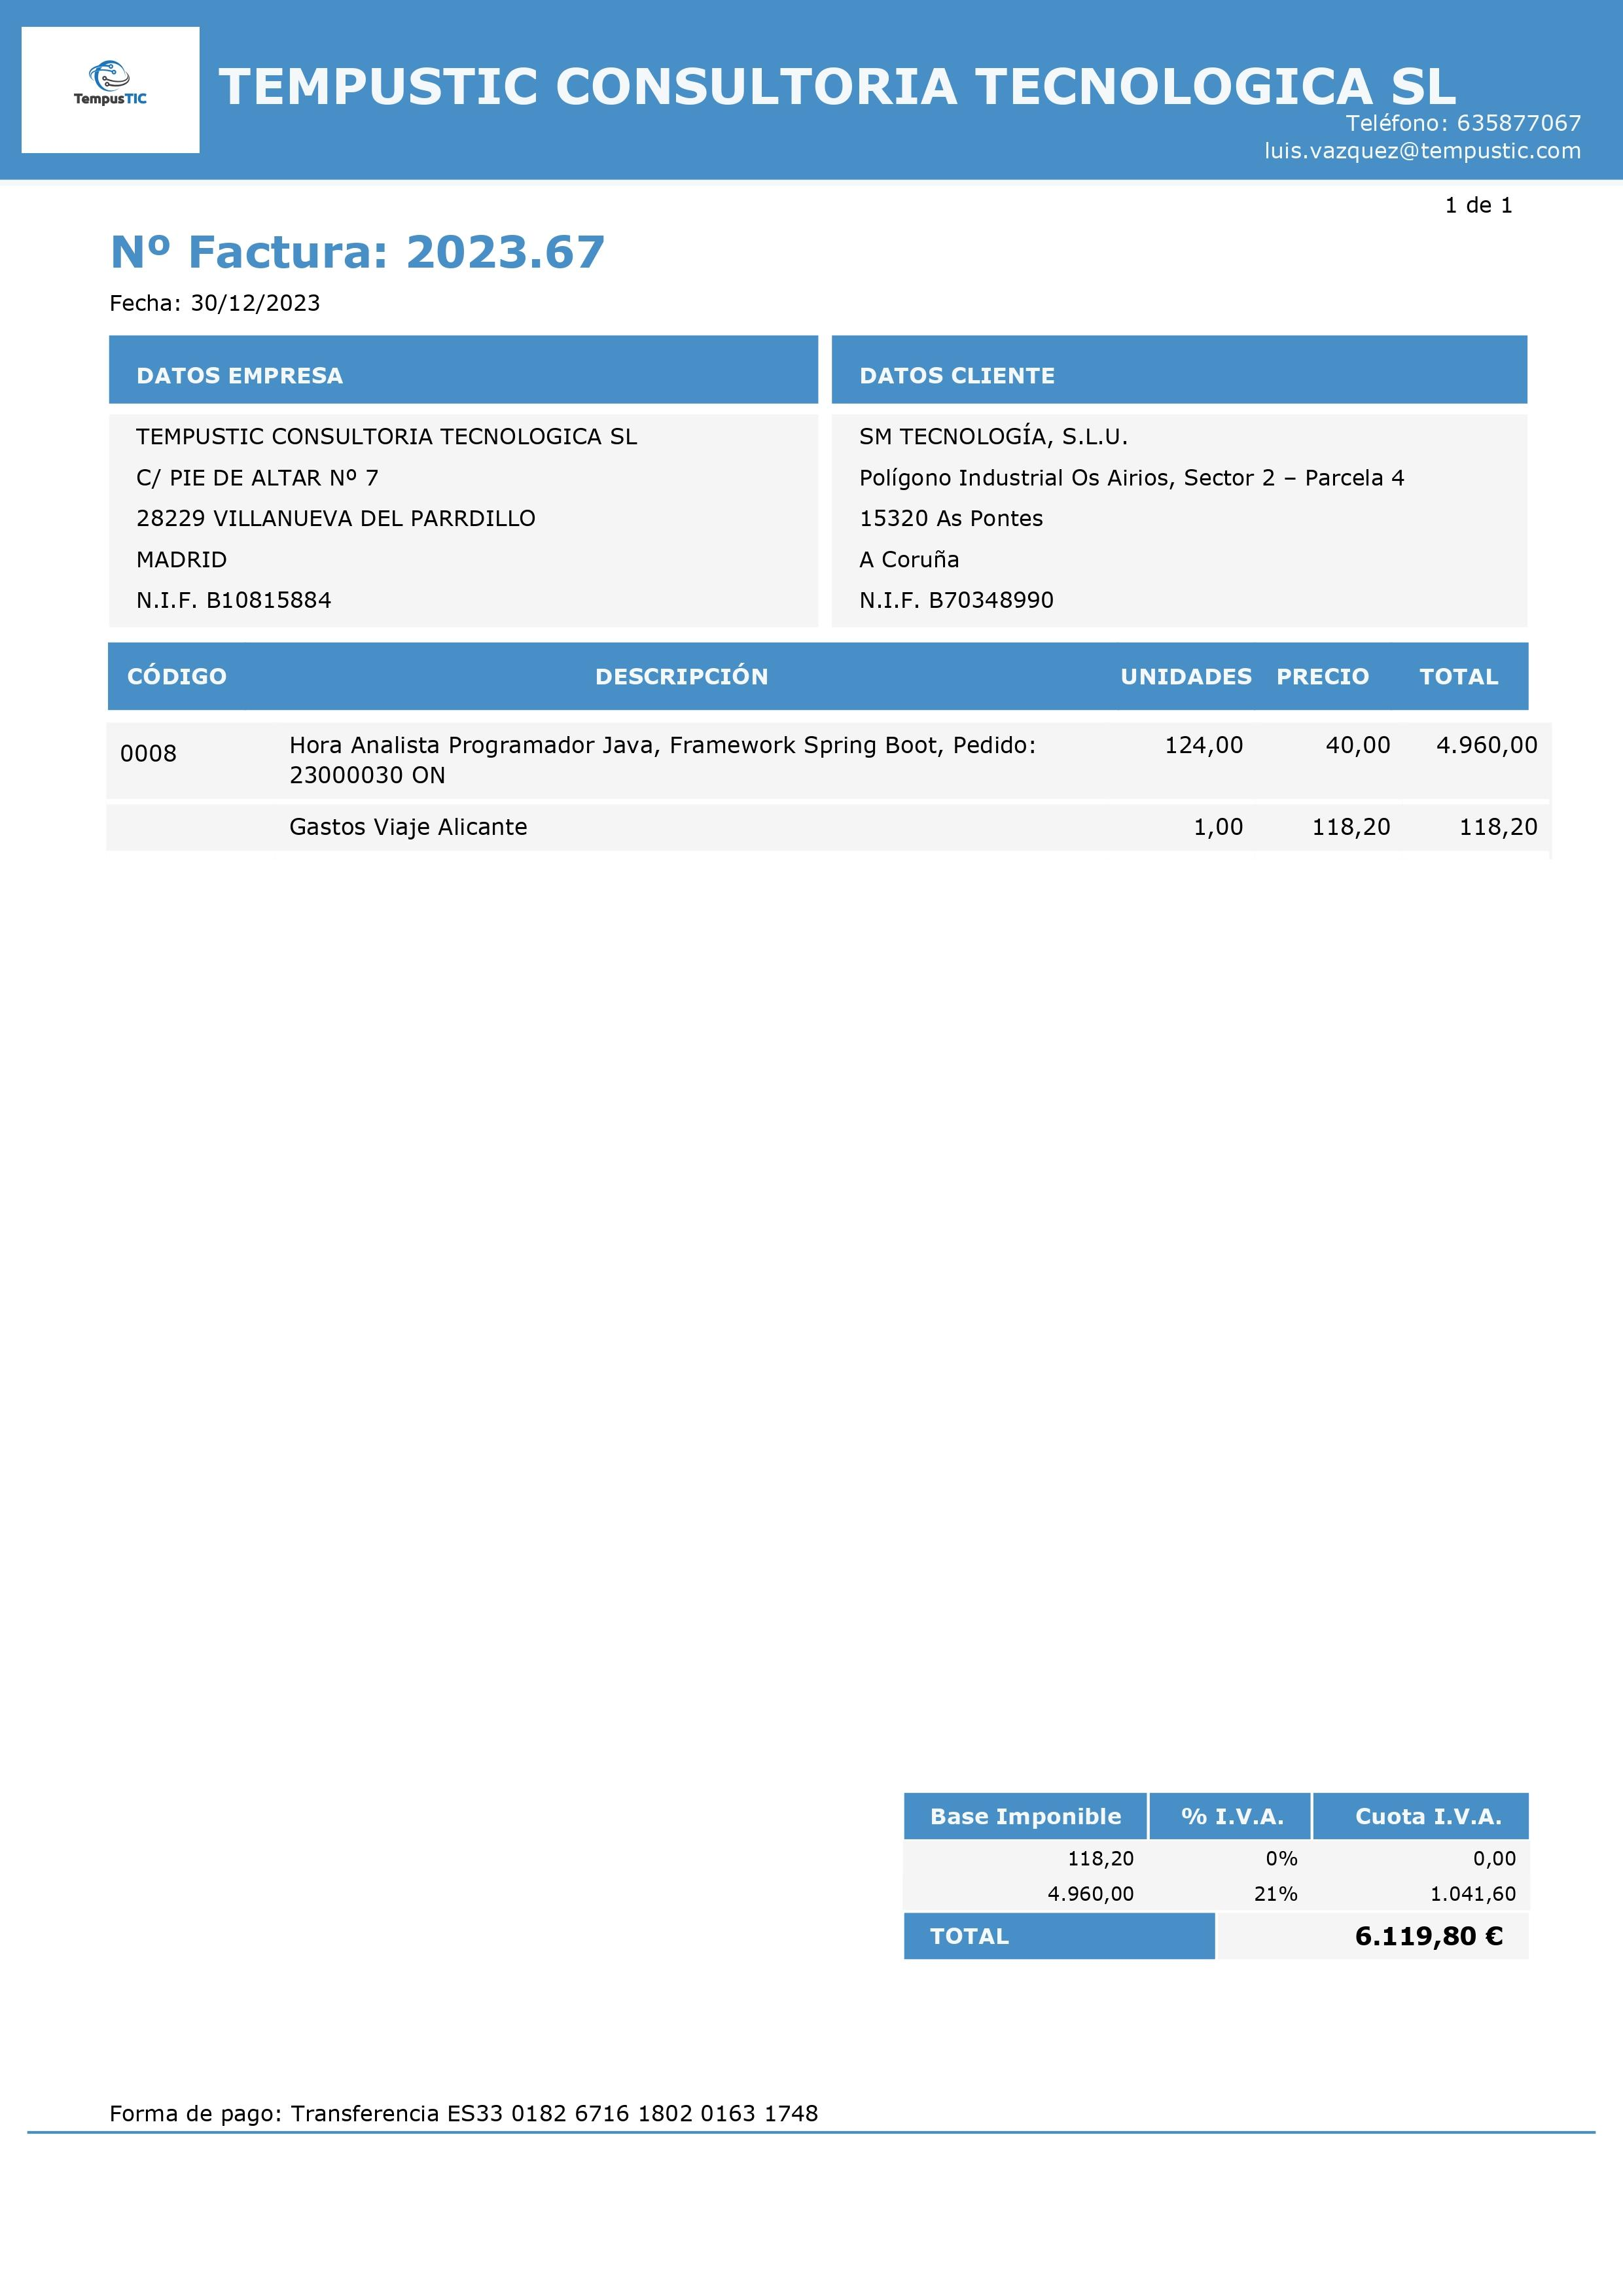ROI: (105, 641, 1550, 860), (827, 334, 1528, 631), (109, 332, 813, 625), (899, 1784, 1536, 1964), (204, 29, 1489, 115), (67, 2064, 871, 2138), (100, 221, 627, 317), (1248, 107, 1589, 170)
